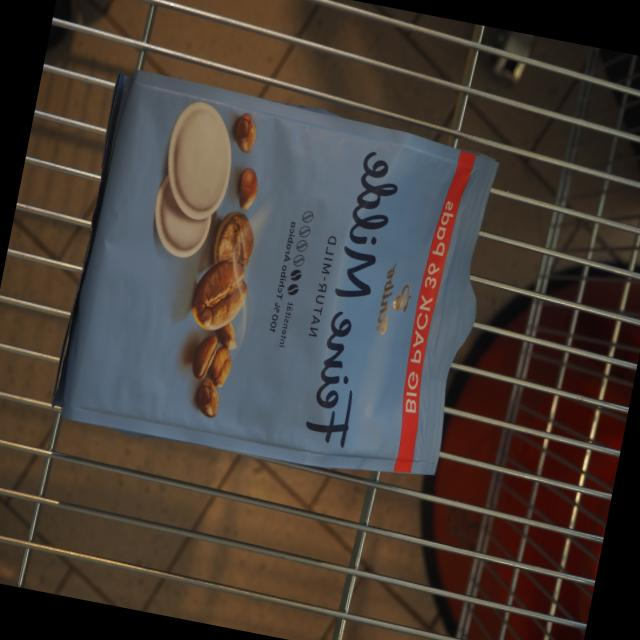FM 36 Pads: (42, 52, 514, 514)
